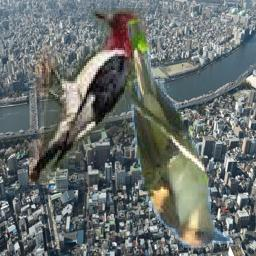Cuckoo: (123, 8, 235, 251)
Woodpecker: (30, 9, 147, 186)
